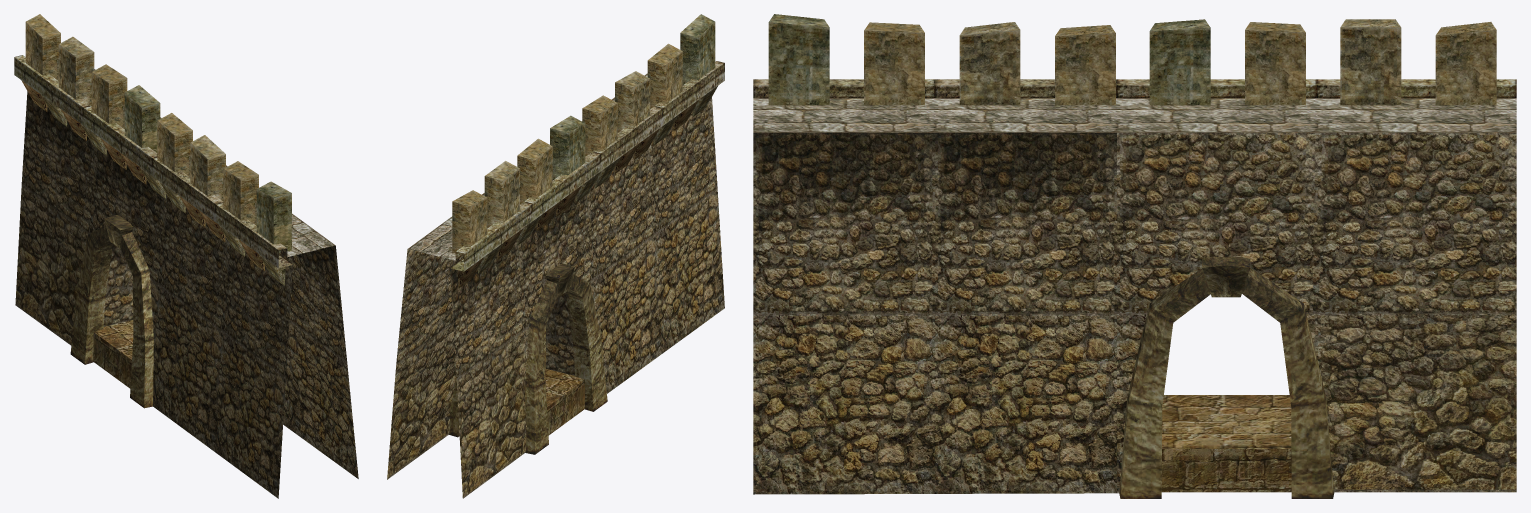
File: hrz22.glb
3 renders of one model, left to right at view 1: azimuth 30°, elevation 25°; view 2: azimuth 150°, elevation 25°; view 3: azimuth 270°, elevation 25°, orthographic. The views are drawn at different scales.
Parts seen in each view (by area): view 1: hrz22-col; view 2: hrz22-col; view 3: hrz22-col.
Part boxes in pixels (<box>): hrz22-col: <box>14,14,358,498</box>; hrz22-col: <box>387,14,724,498</box>; hrz22-col: <box>753,14,1516,498</box>.
Bounding box in the file's own units: 3.29 × 9.93 × 16.
14 materials, 14 textured.
